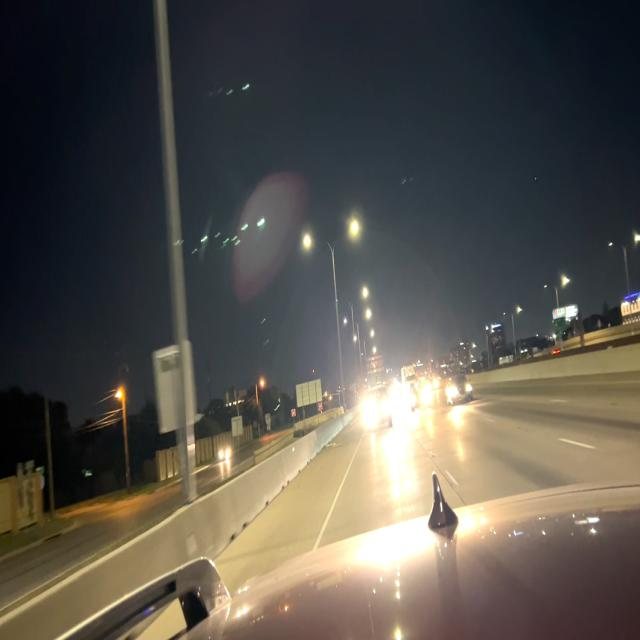back-of-sign: (295, 379, 324, 408), (365, 351, 386, 377), (231, 414, 244, 439)
